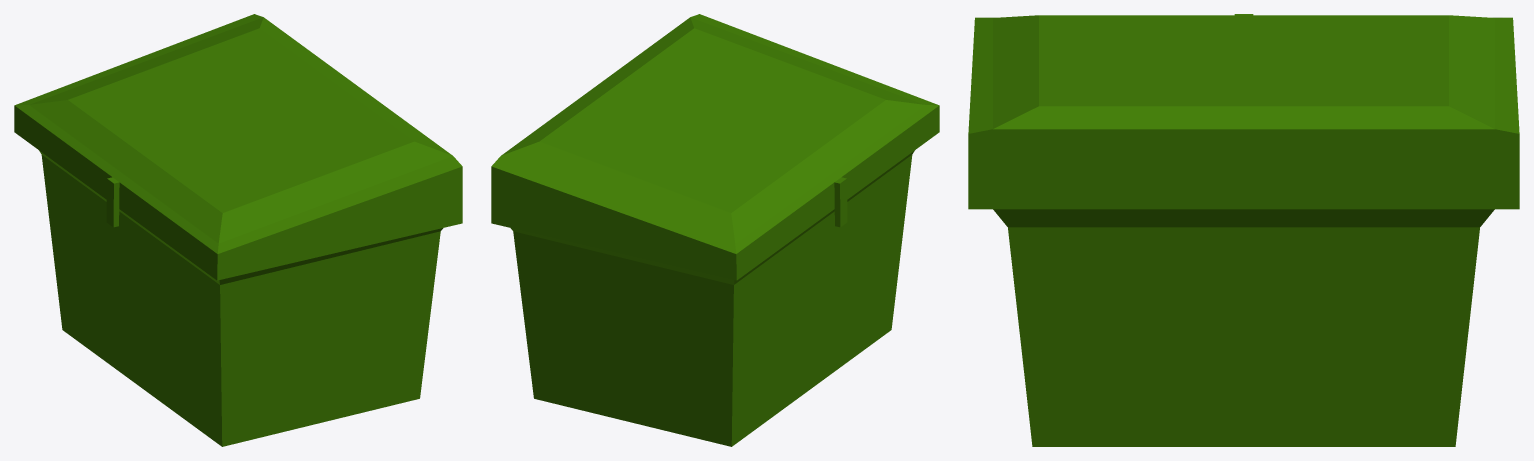
The model's file is poubelleGrosse.fbx.
3 views of the same model, side by side, from view 1: azimuth 30°, elevation 25°; view 2: azimuth 150°, elevation 25°; view 3: azimuth 270°, elevation 25° (orthographic). The views are drawn at different scales.
Visible parts, largest first — view 1: Cube.241; view 2: Cube.241; view 3: Cube.241.
Part boxes in pixels (box(x1,y1,x2,y2)): Cube.241: box(14, 14, 462, 446); Cube.241: box(491, 14, 939, 446); Cube.241: box(968, 14, 1519, 446).
Bounding box in the file's own units: 530 × 521 × 769.
